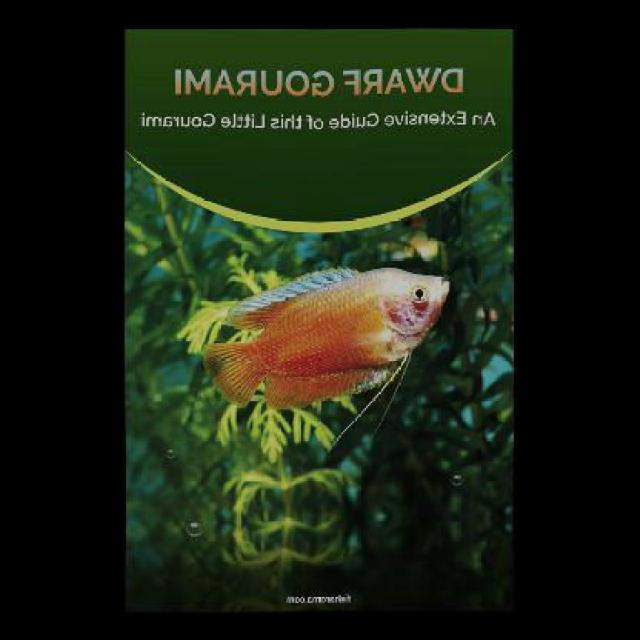Gourami: (211, 262, 451, 440)
